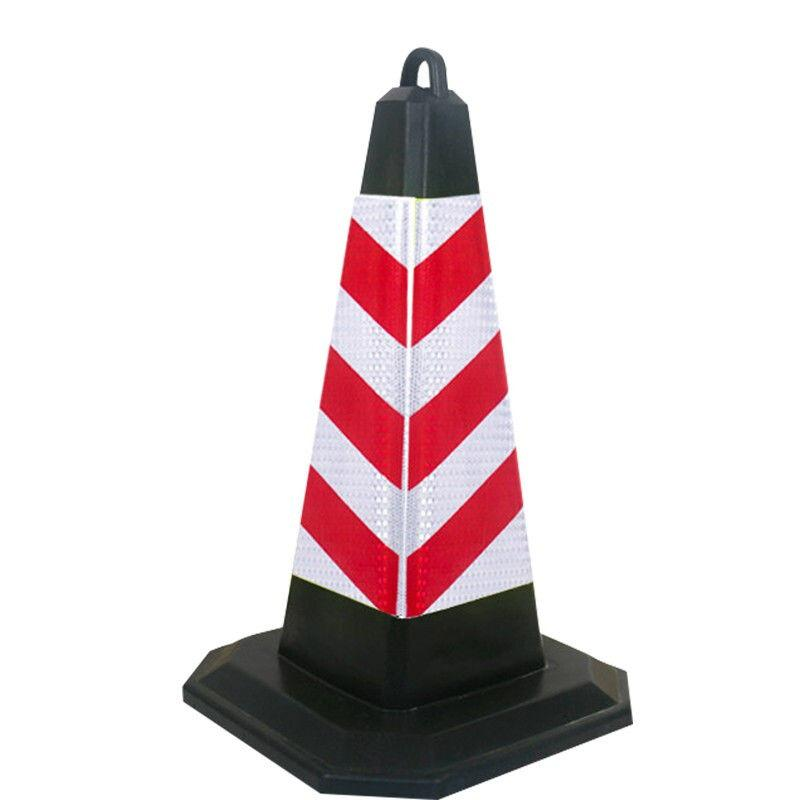sign: (191, 44, 645, 800)
